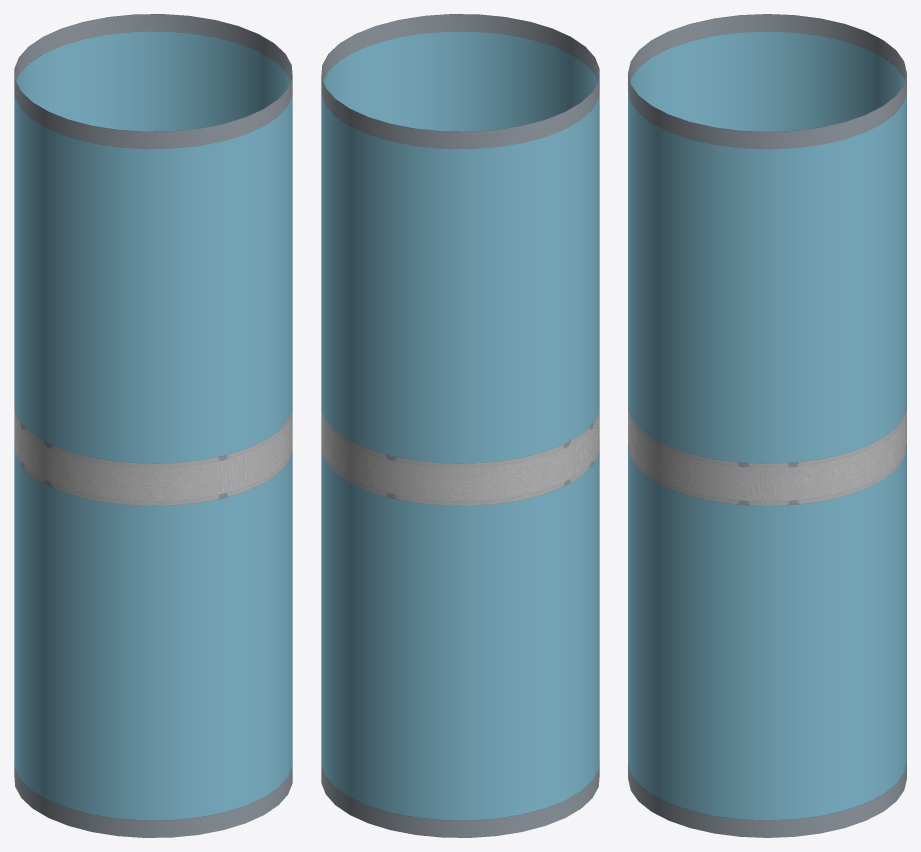
Rendered from Glass_Tube_01.FBX.
3 renders of one model, left to right at view 1: azimuth 30°, elevation 25°; view 2: azimuth 150°, elevation 25°; view 3: azimuth 270°, elevation 25°, orthographic.
Parts seen in each view (by area): view 1: Glass_Tube_01; view 2: Glass_Tube_01; view 3: Glass_Tube_01.
Part boxes in pixels (left/top/right/bottom): Glass_Tube_01: left=14, top=14, right=292, bottom=837; Glass_Tube_01: left=321, top=14, right=599, bottom=837; Glass_Tube_01: left=628, top=14, right=906, bottom=837.
Bounding box in the file's own units: 1.07 × 3 × 1.07.
Materials: 2 (1 with a texture image).
